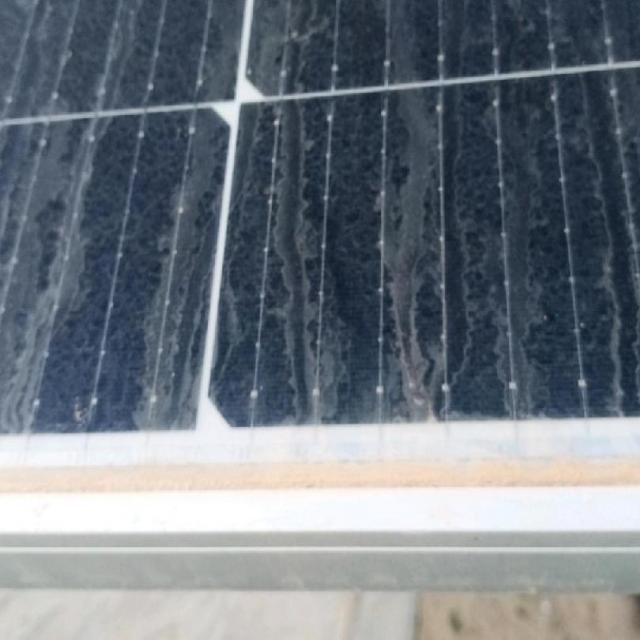faulty: (2, 0, 640, 527)
